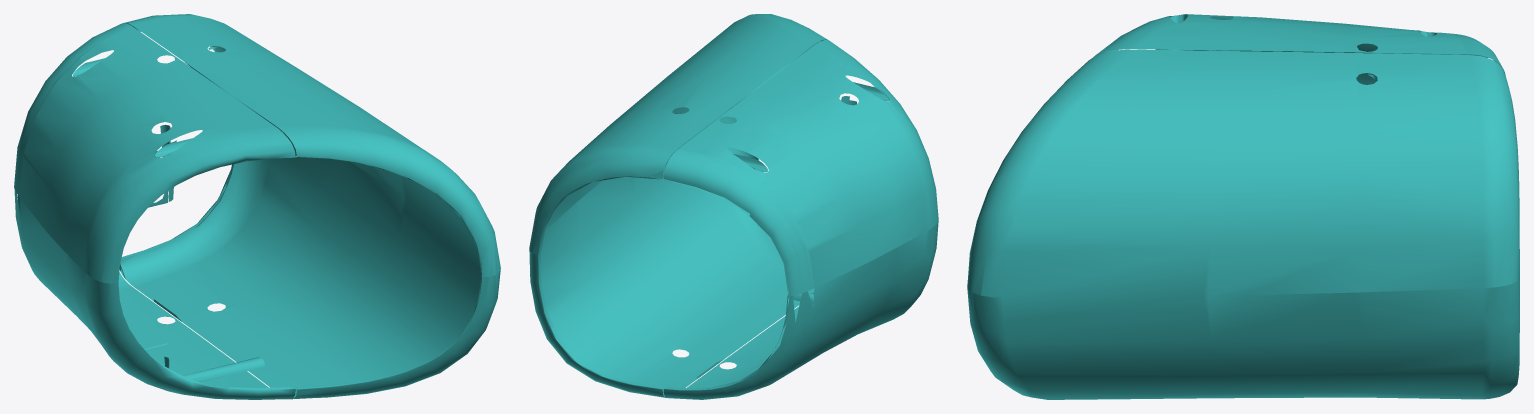
Rendered from sim_icub3_l_hip_3.obj.
3 views of the same model, side by side, from view 1: azimuth 30°, elevation 25°; view 2: azimuth 150°, elevation 25°; view 3: azimuth 270°, elevation 25° (orthographic). The views are drawn at different scales.
Size of the model in its own units: 169 by 135 by 217.
